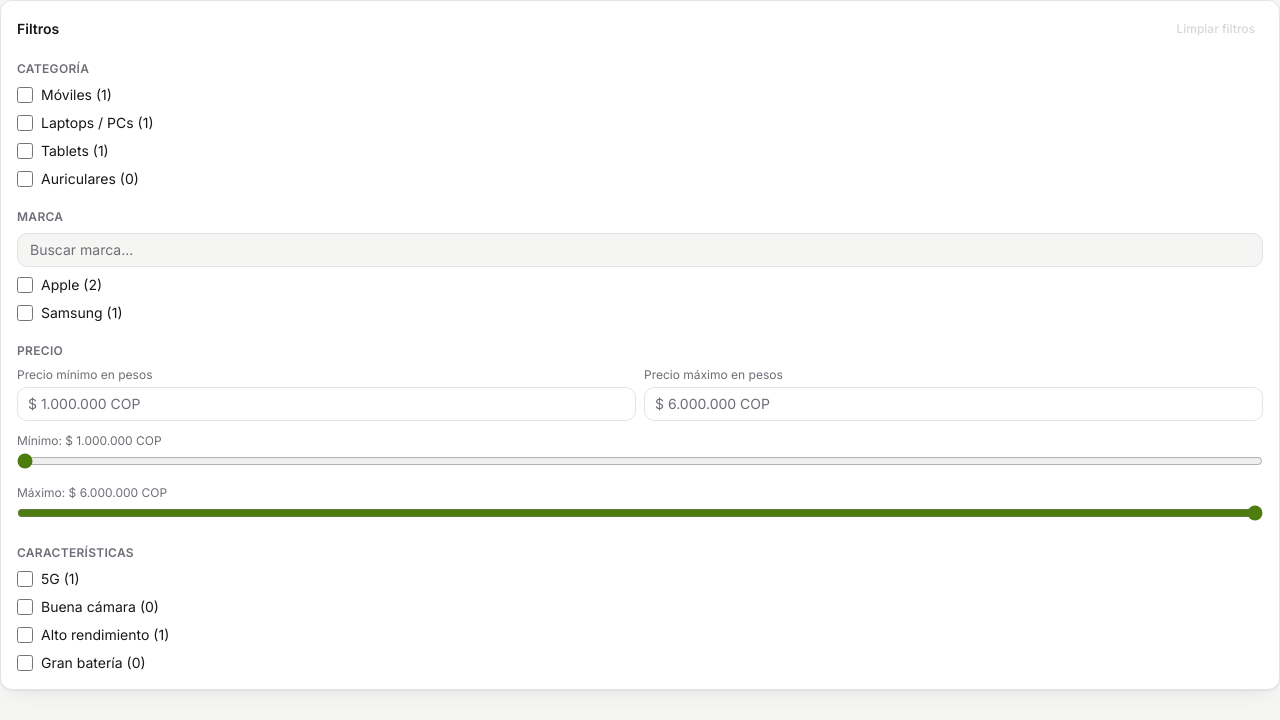
Test: FilterSidebar — buscador de marcas › avisa cuando ninguna marca coincide
Step 1. Type "zzz" into the search field named "Buscar marcas" → coordinates (640, 250), box [17, 233, 1263, 267]
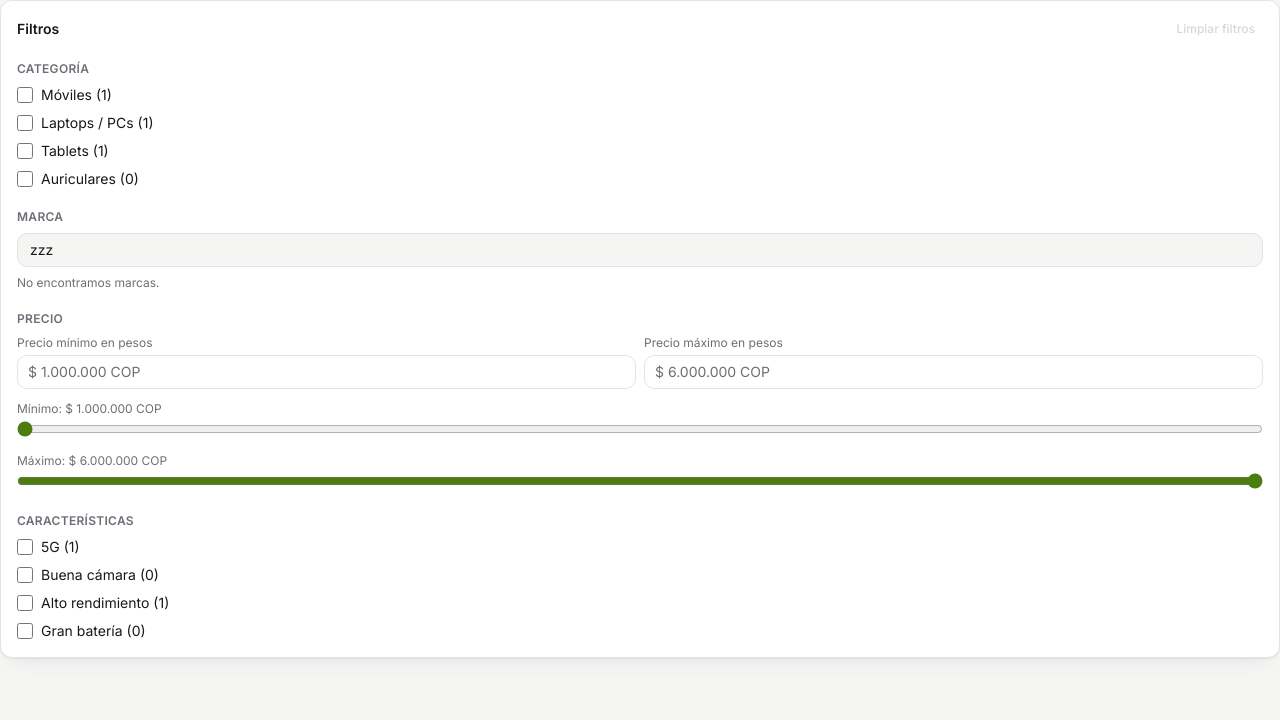
expect the text "No encontramos marcas." is shown: met, box [17, 275, 160, 290]
